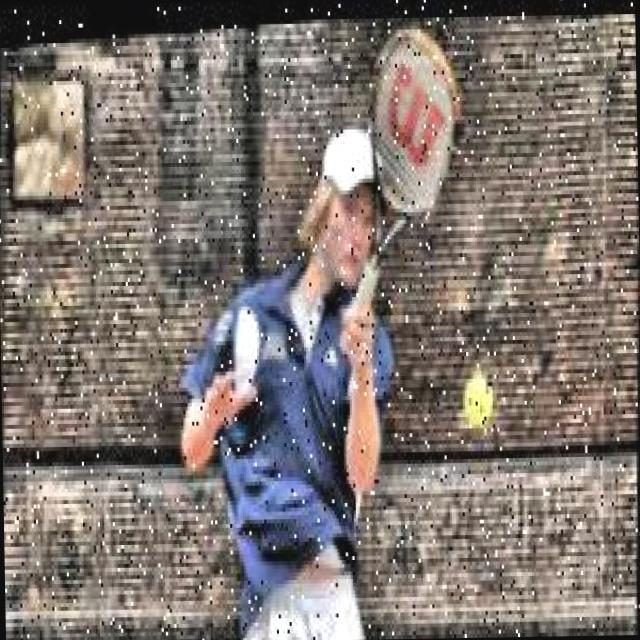Tennis Ball: (466, 367, 494, 424)
